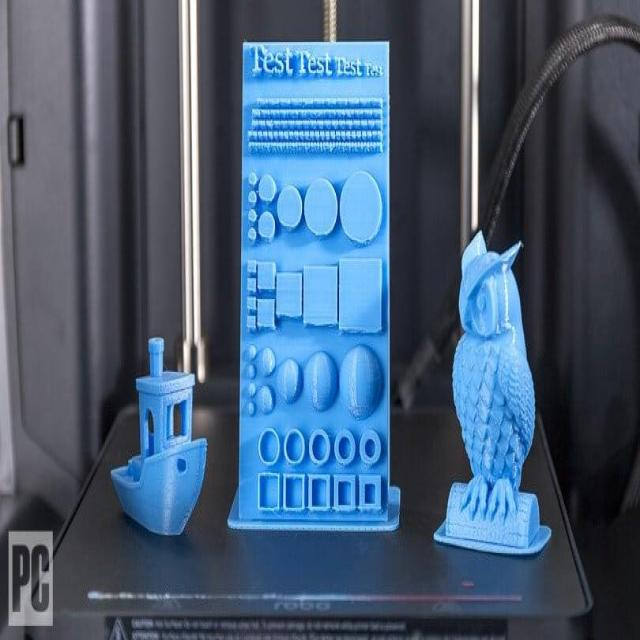Without deffect: (227, 24, 412, 540)
